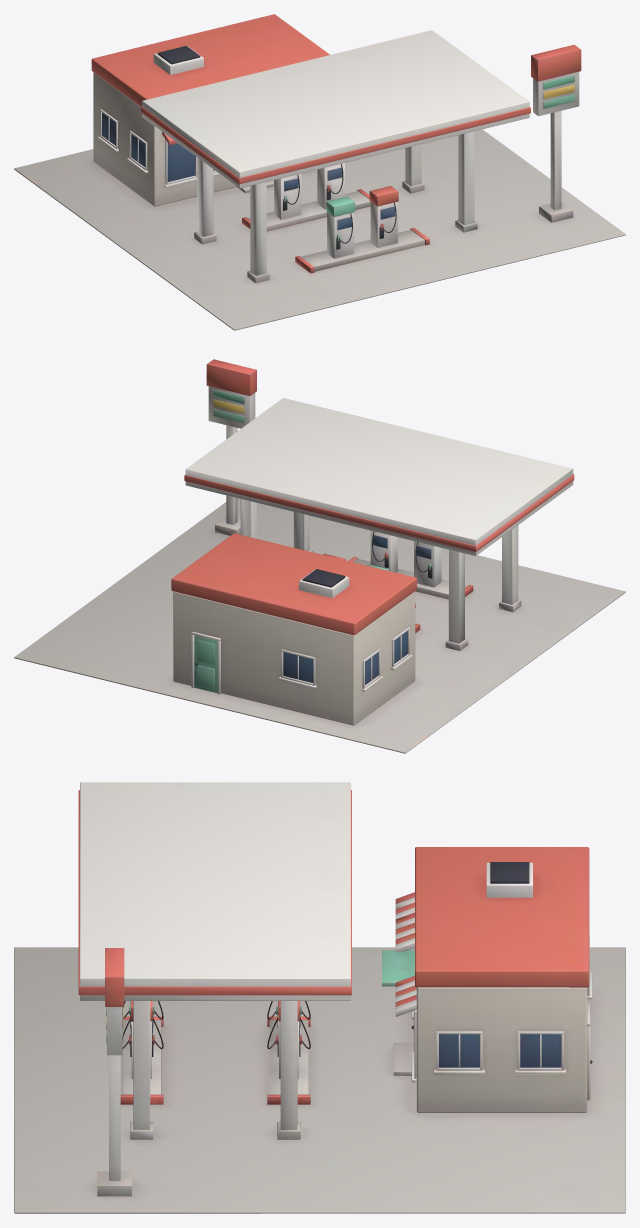
Rendered from gas-station.glb.
3 views of the same model, one above another, from view 1: azimuth 30°, elevation 25°; view 2: azimuth 150°, elevation 25°; view 3: azimuth 270°, elevation 25° (orthographic). The views are drawn at different scales.
Parts seen in each view (by area): view 1: gas-station_body; view 2: gas-station_body; view 3: gas-station_body.
Part boxes in pixels (x1,y1,x2,y2): gas-station_body: [14, 14, 625, 330]; gas-station_body: [14, 359, 625, 753]; gas-station_body: [14, 782, 625, 1213].
Size of the model in its own units: 16.2 by 6.51 by 15.8.
Materials: 1 (1 with a texture image).
